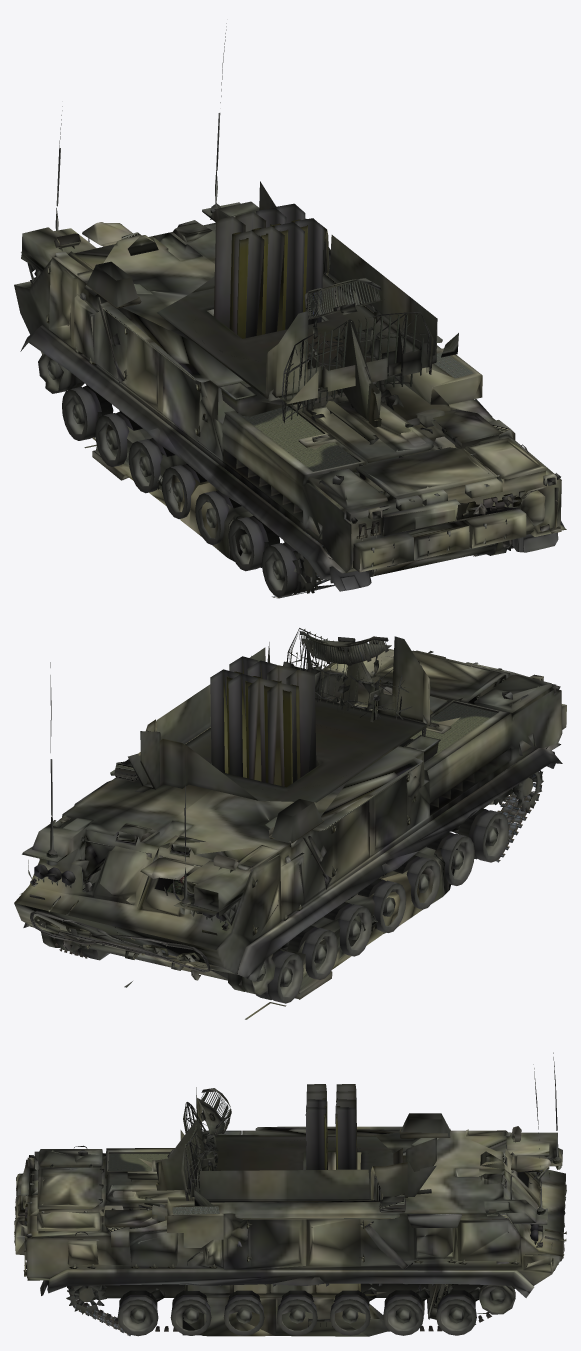
File: tor_lo.glb
3 renders of one model, top to bottom at view 1: azimuth 30°, elevation 25°; view 2: azimuth 150°, elevation 25°; view 3: azimuth 270°, elevation 25°, orthographic. The views are drawn at different scales.
Visible parts, largest first — view 1: body|db25e93_dds, radar|db25e93_dds, body|625cab9_dds, turret|db25e93_dds, radar|625cab9_dds; view 2: body|db25e93_dds, radar|db25e93_dds, turret|db25e93_dds, body|625cab9_dds, radar|625cab9_dds, body|f5419b8e_dds; view 3: body|db25e93_dds, turret|db25e93_dds, radar|db25e93_dds, body|625cab9_dds, radar|625cab9_dds, body|f5419b8e_dds.
Part boxes in pixels (x1=…): body|db25e93_dds: x1=14, y1=23, x2=566, y2=597; radar|db25e93_dds: x1=282, y1=278, x2=445, y2=449; body|625cab9_dds: x1=238, y1=352, x2=473, y2=471; turret|db25e93_dds: x1=84, y1=424, x2=395, y2=561; radar|625cab9_dds: x1=291, y1=281, x2=423, y2=419; body|db25e93_dds: x1=14, y1=636, x2=566, y2=1003; radar|db25e93_dds: x1=286, y1=628, x2=460, y2=766; turret|db25e93_dds: x1=124, y1=846, x2=457, y2=1019; body|625cab9_dds: x1=410, y1=703, x2=497, y2=763; radar|625cab9_dds: x1=295, y1=629, x2=387, y2=711; body|f5419b8e_dds: x1=53, y1=762, x2=542, y2=958; body|db25e93_dds: x1=14, y1=1052, x2=566, y2=1336; turret|db25e93_dds: x1=182, y1=1283, x2=485, y2=1336; radar|db25e93_dds: x1=138, y1=1088, x2=231, y2=1220; body|625cab9_dds: x1=108, y1=1153, x2=219, y2=1214; radar|625cab9_dds: x1=184, y1=1091, x2=229, y2=1198; body|f5419b8e_dds: x1=69, y1=1286, x2=515, y2=1335.
Bounding box in the file's own units: 3.61 × 4.78 × 8.85.
9 materials, 9 textured.
